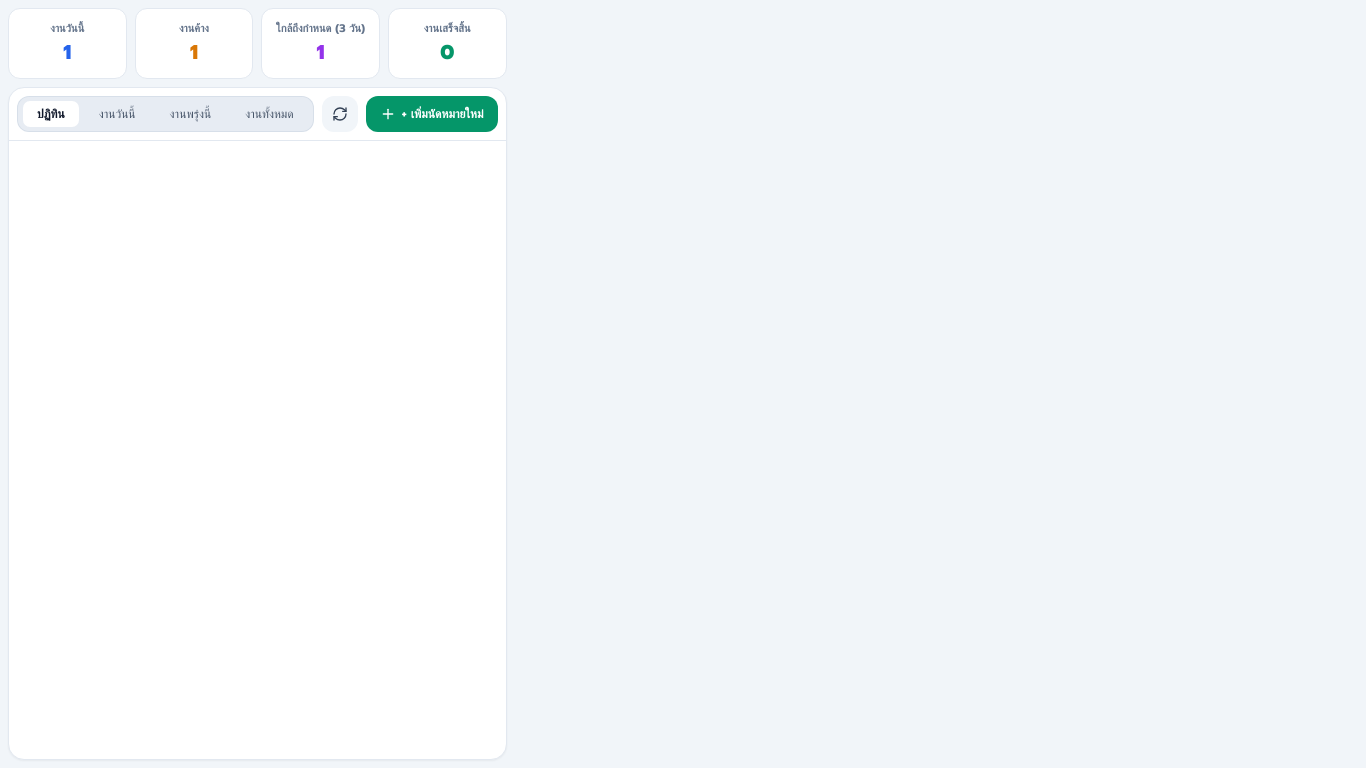
MASTER Appointment & Work Order Flow Tests › ไม่มี events -> Timeline แสดง "ยังไม่มีข้อมูล" และไม่ mark ขั้นว่าเสร็จ
The image size is (1366, 768).
Click the button "งานทั้งหมด" at {"x": 269, "y": 114}, box 230,100 -> 309,128
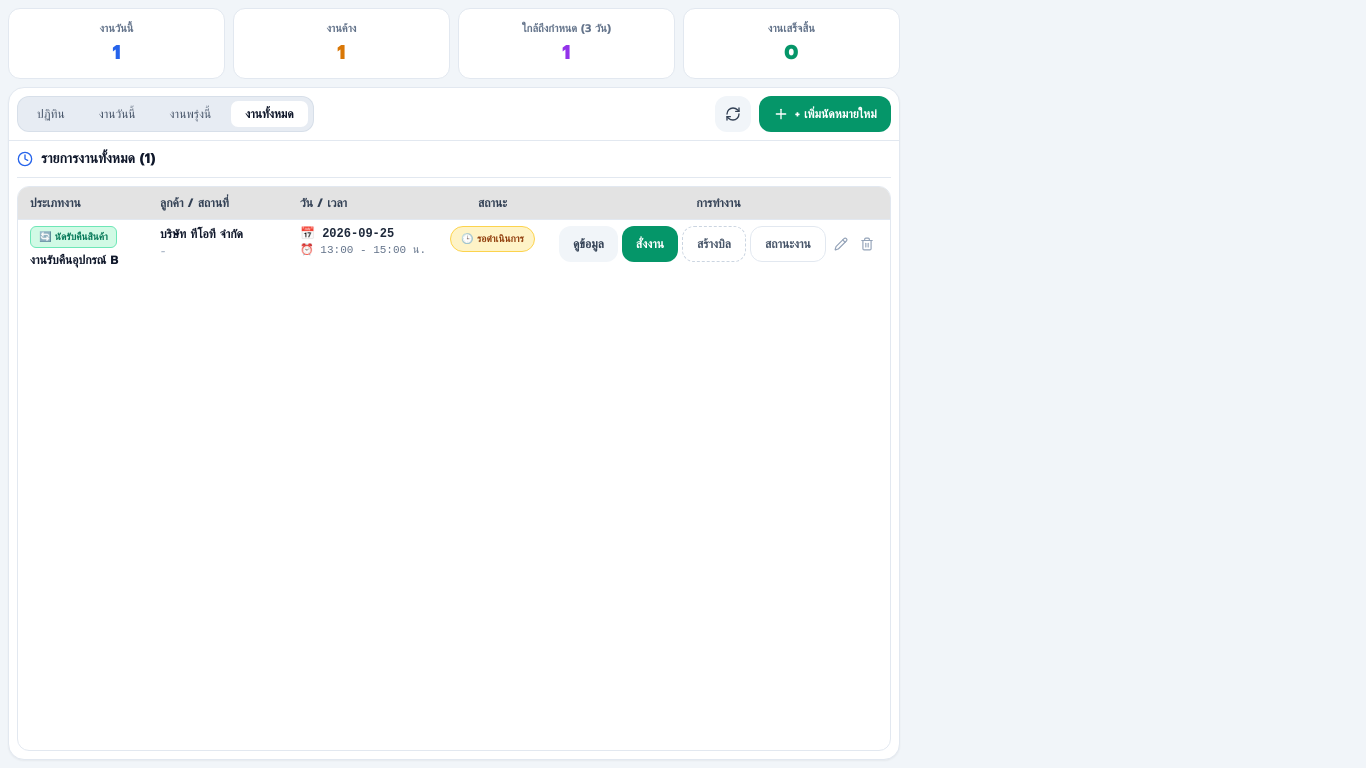
# Click [สถานะงาน]
Click the button "สถานะงาน" at {"x": 788, "y": 244}, box 750,226 -> 826,262
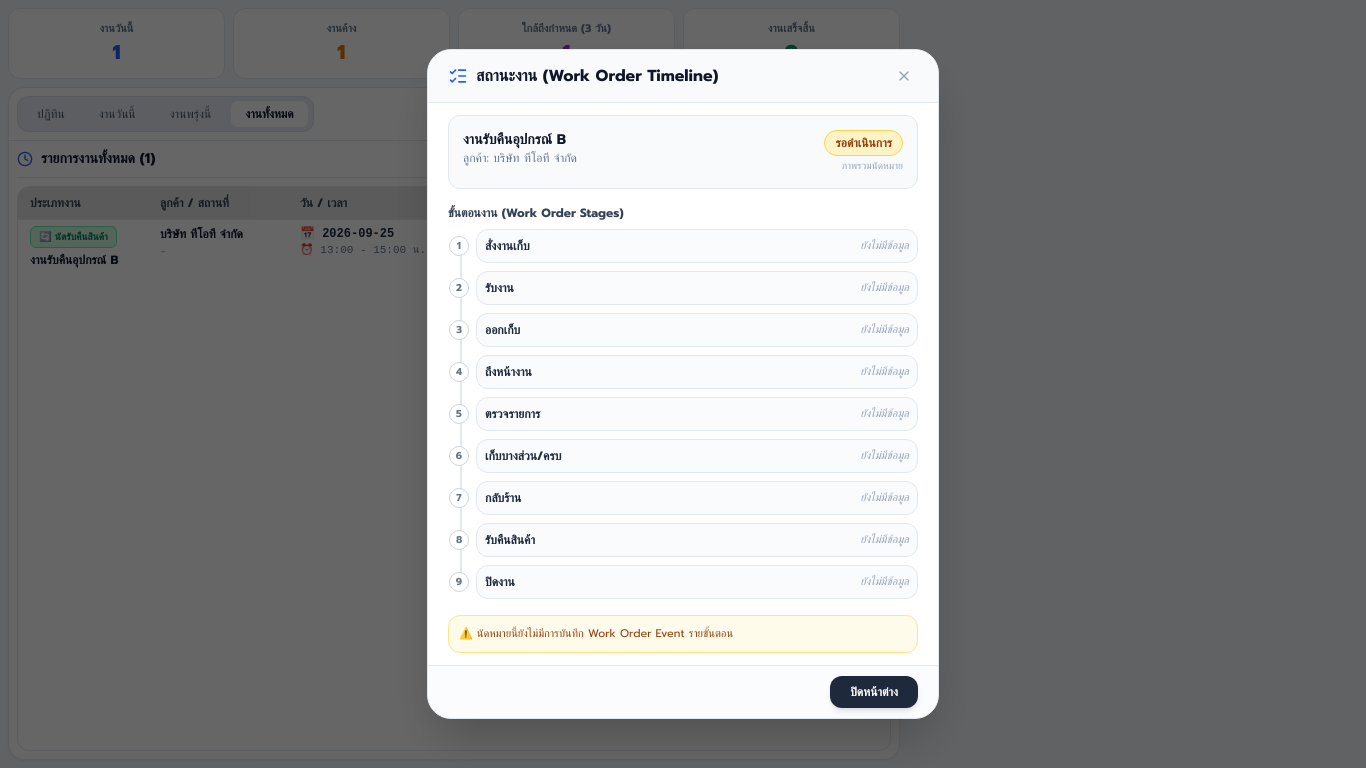
Result: the heading "สถานะงาน (Work Order Timeline)" is shown at 476,64 -> 718,88
Result: the text "สั่งงานเก็บ" is shown at 485,238 -> 530,254
Result: the text "ออกเก็บ" is shown at 485,322 -> 520,338
